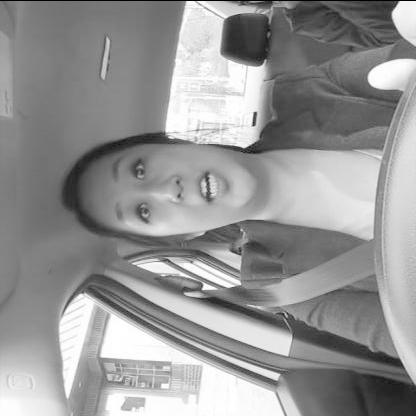seatbelt: (54, 129, 384, 309)
